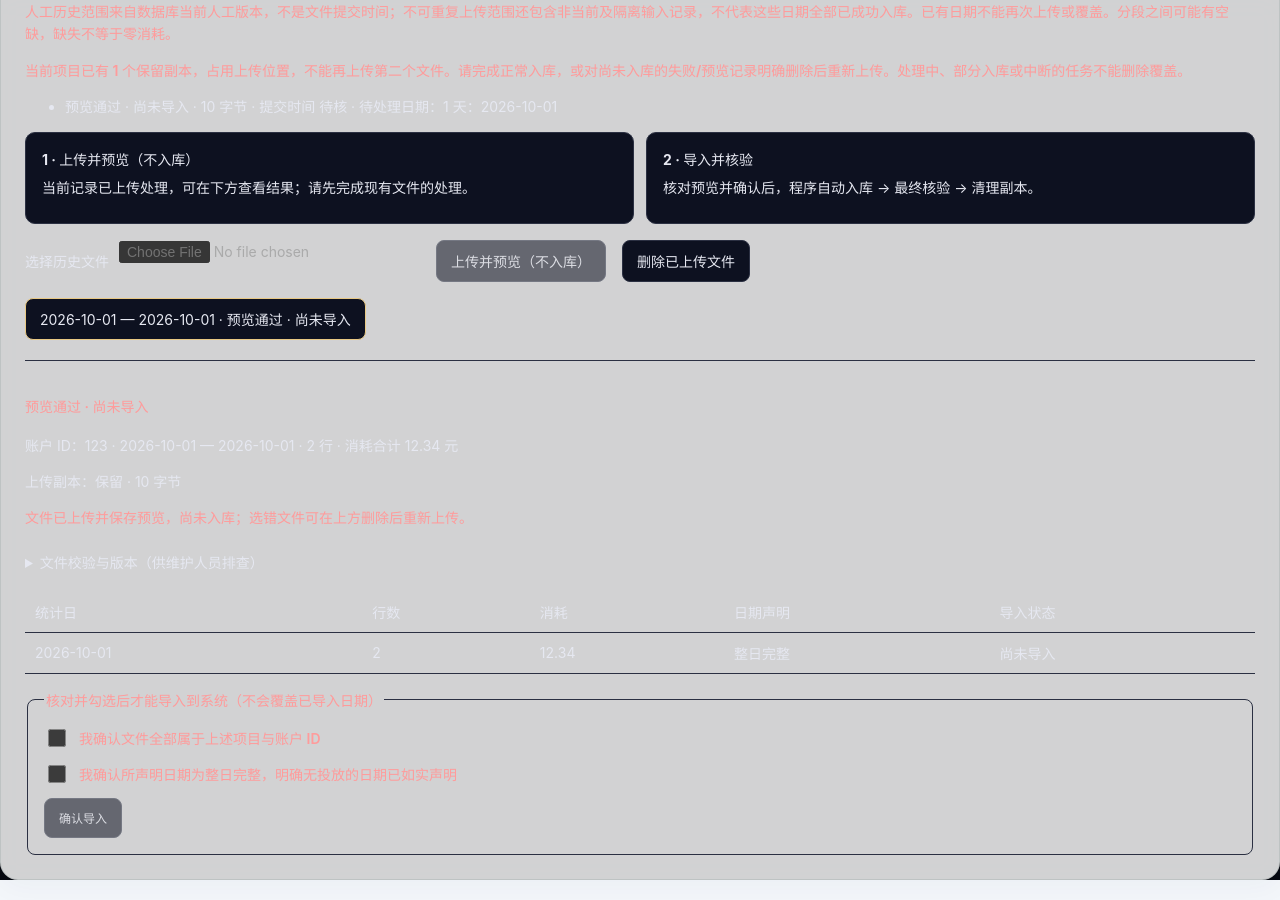
Test: history upload confirmation and isolation › restores records and requires two confirmations before apply
The width and height of the screenshot is (1280, 900).
(page scrolled)
Expected: the button "确认导入" is disabled, [44,798,122,838]
Click the checkbox labelled "我确认文件全部属于上述项目与账户 ID" at (57, 738), box [48,729,66,747]
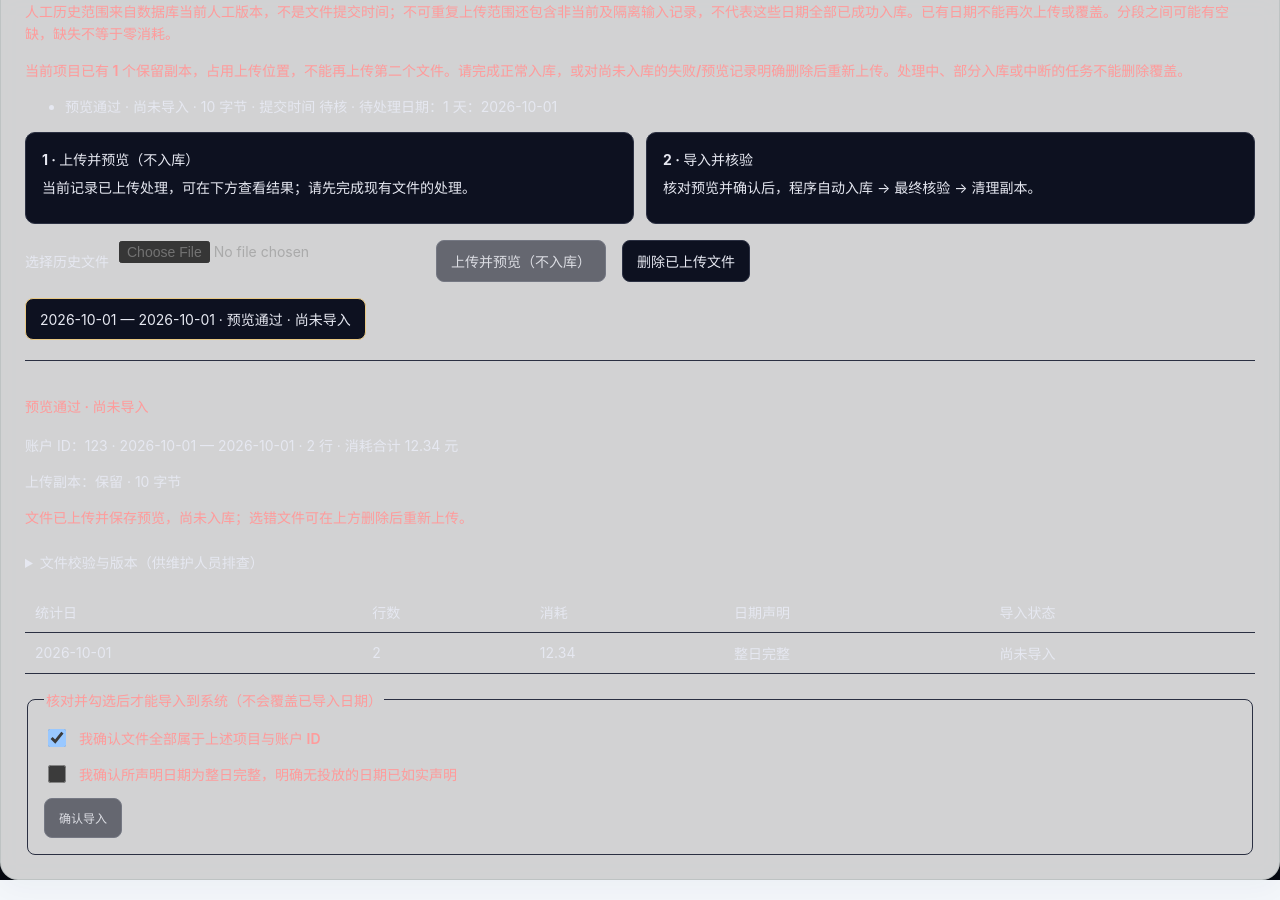
Expected: the button "确认导入" is disabled, [44,798,122,838]
Click the checkbox labelled "我确认所声明日期为整日完整，明确无投放的日期已如实声明" at (57, 774), box [48,765,66,783]
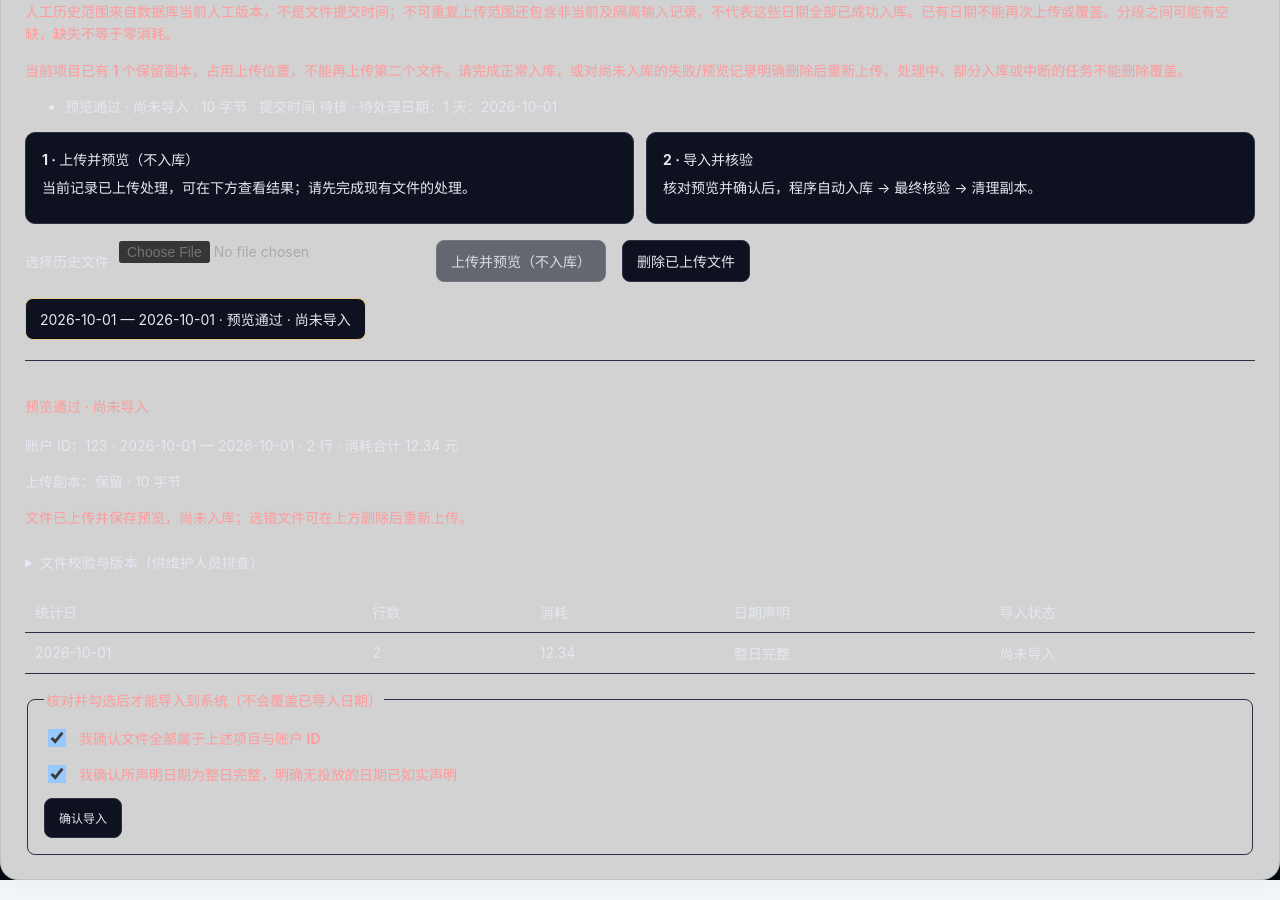
Click the button "确认导入" at (83, 818), box [44,798,122,838]
(page scrolled)
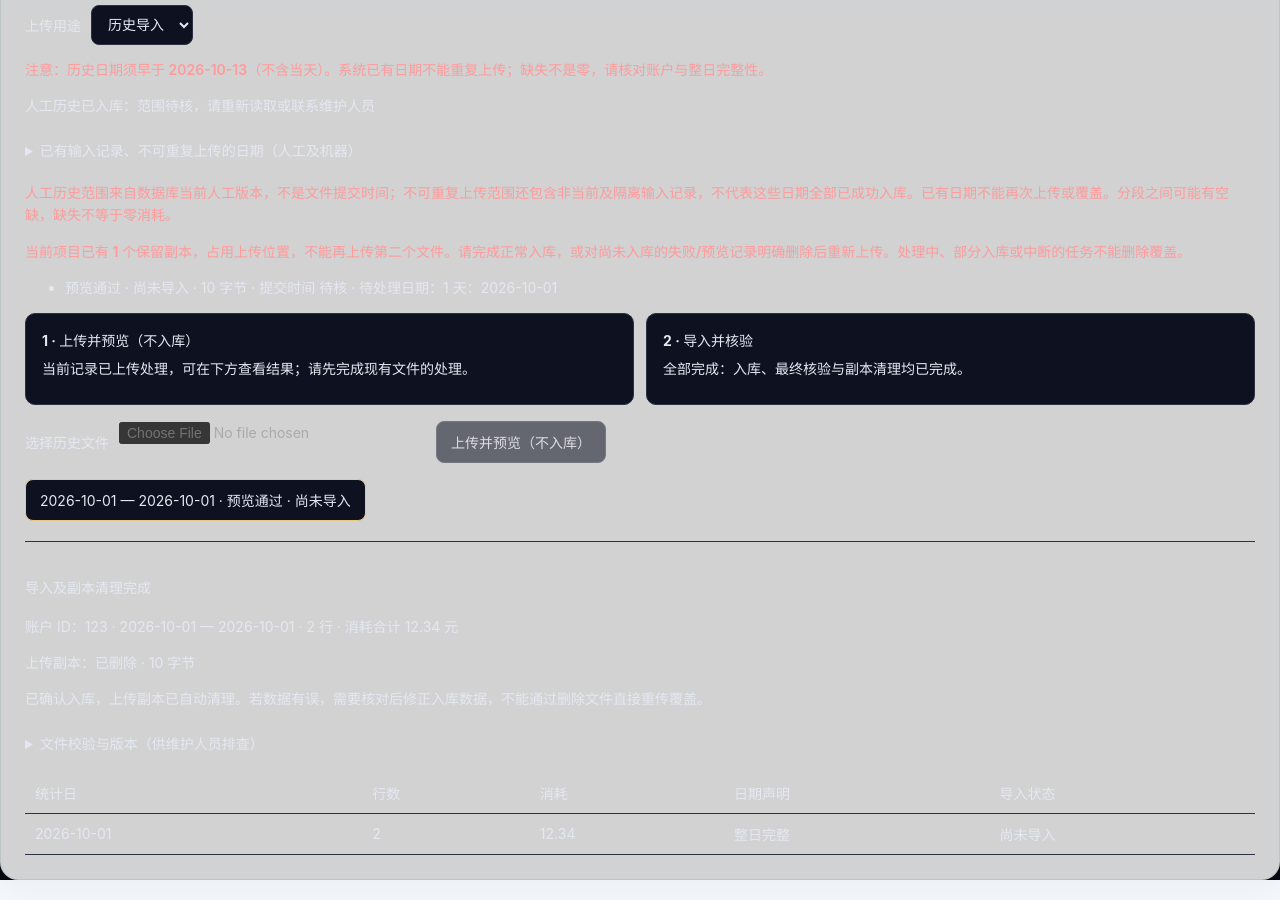
Now the text "导入及副本清理完成" is shown, box [25,579,151,596]
